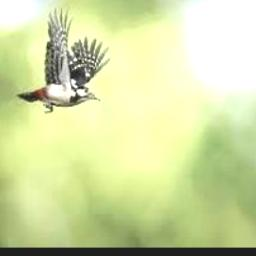Woodpecker: (18, 4, 112, 113)
